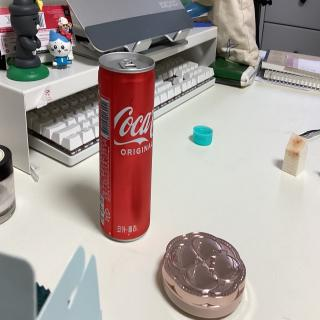cocacola: (94, 49, 162, 241)
